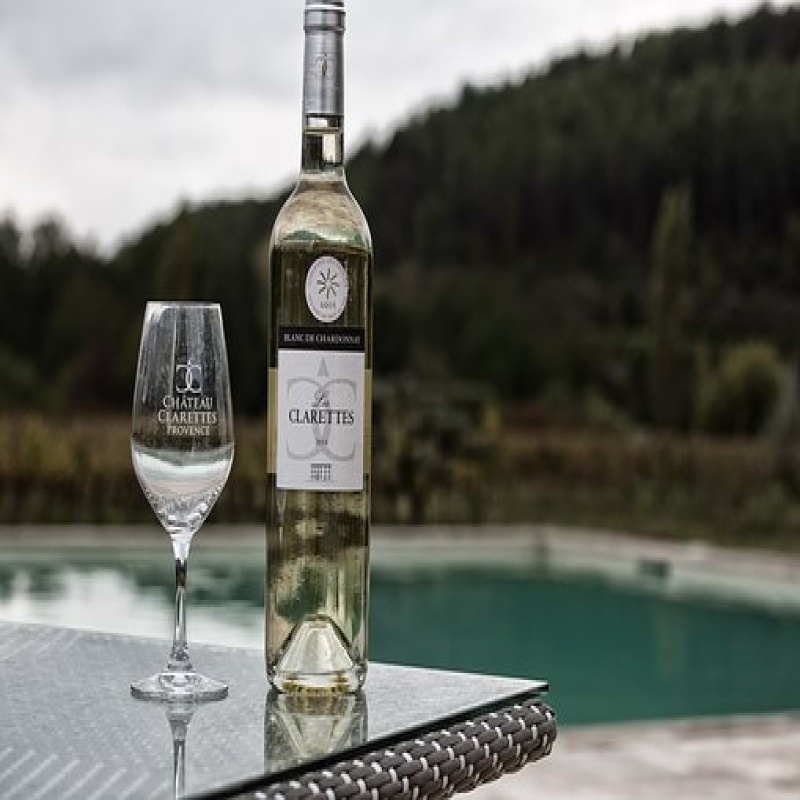wine: (262, 14, 377, 700)
